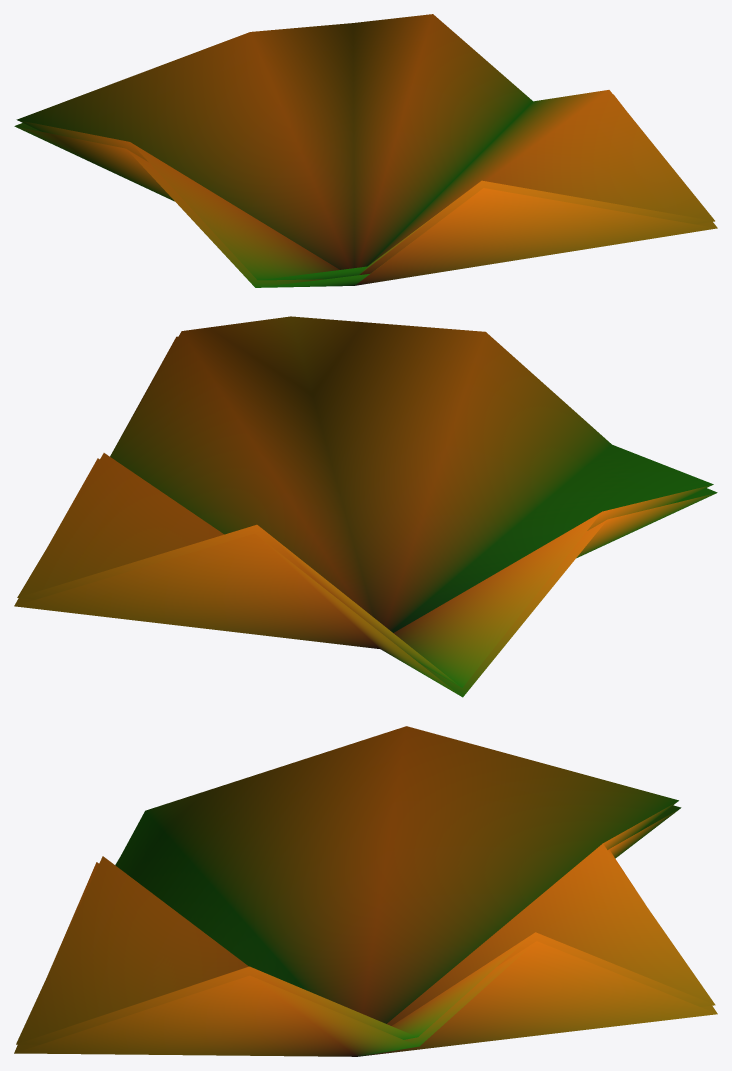
Rendered from TinyW02_high.FBX.
3 renders of one model, top to bottom at view 1: azimuth 30°, elevation 25°; view 2: azimuth 150°, elevation 25°; view 3: azimuth 270°, elevation 25°, orthographic. The views are drawn at different scales.
Parts seen in each view (by area): view 1: TinyW02_high; view 2: TinyW02_high; view 3: TinyW02_high.
Part boxes in pixels (x1,y1,x2,y2): TinyW02_high: (14, 14, 717, 287); TinyW02_high: (14, 316, 717, 697); TinyW02_high: (14, 726, 717, 1056).
Bounding box in the file's own units: 0.5023 × 0.2018 × 0.6026.
